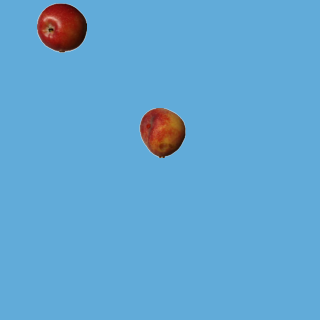Apple Braeburn: (36, 2, 86, 52)
Peach: (137, 107, 187, 157)
